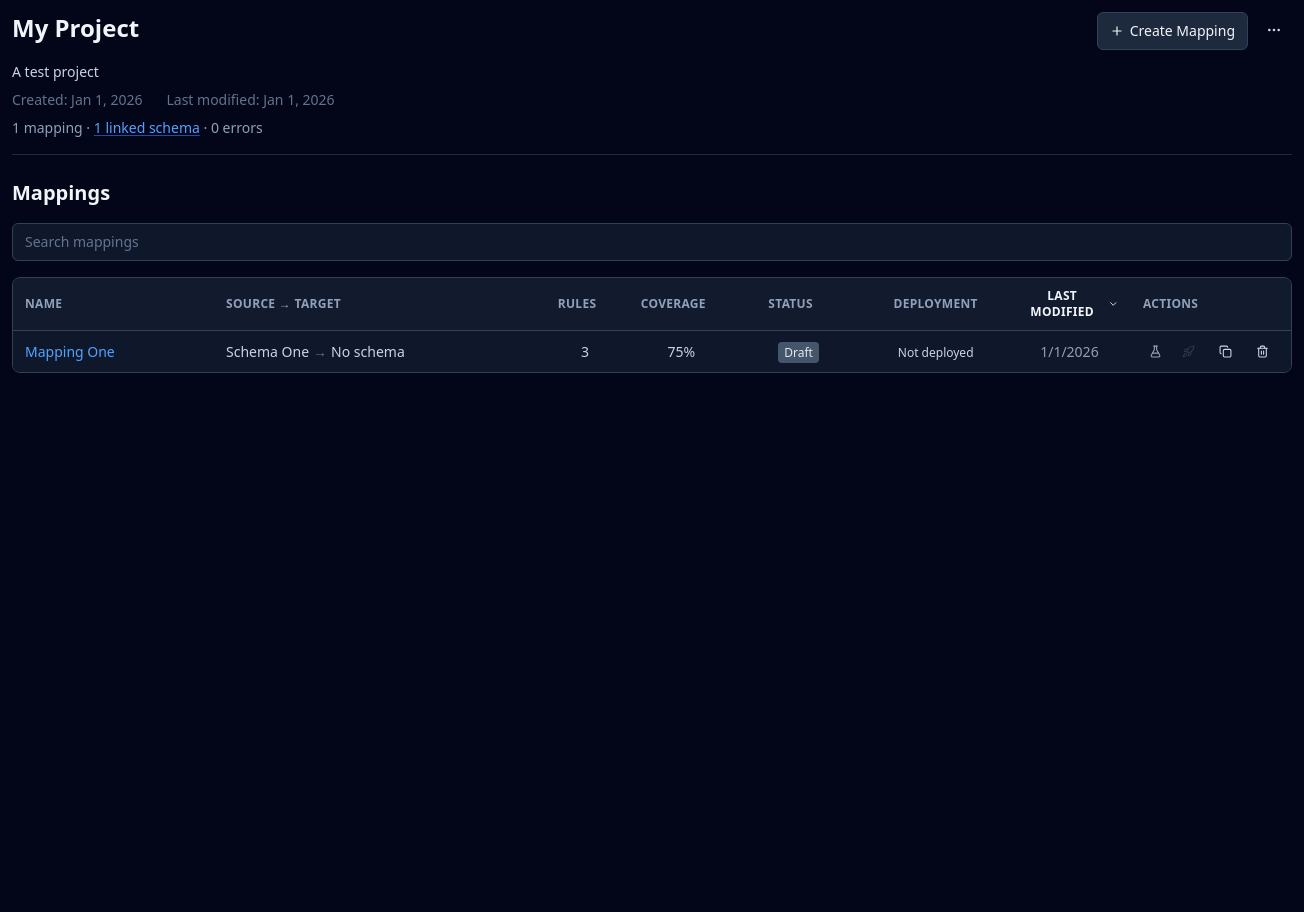
Test: ProjectOverviewPage — layout checks › AE-16: overflow menu closes on outside click
The width and height of the screenshot is (1304, 912).
Click the button with test id "project-overflow-menu-trigger": x=1274, y=30 [1256,18,1292,42]
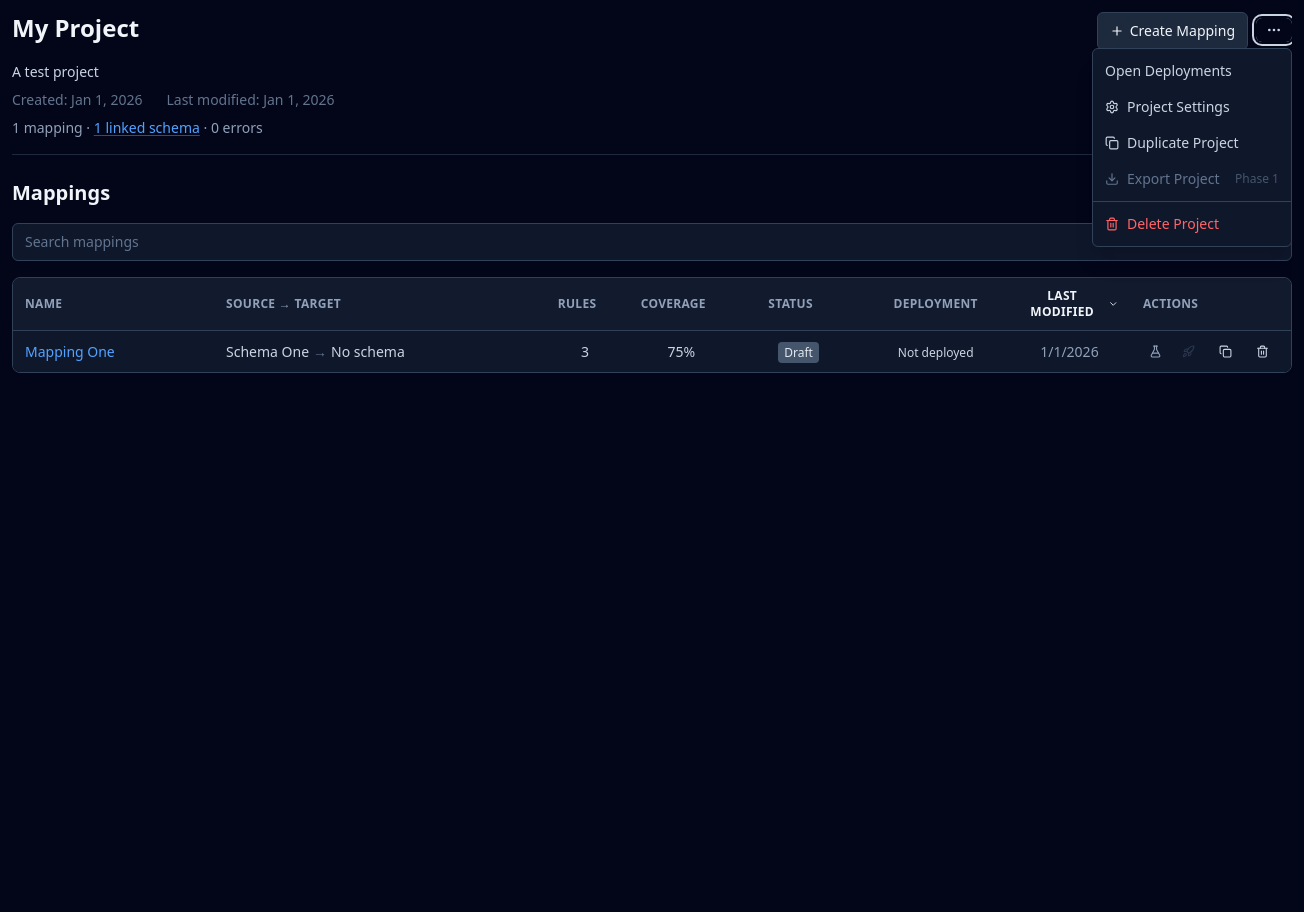
Result: the menu with test id "project-overflow-menu" is shown at [1092,48,1292,247]
// Click outside
Click the element that starts with "My Project": x=652, y=462 [12,12,1292,911]
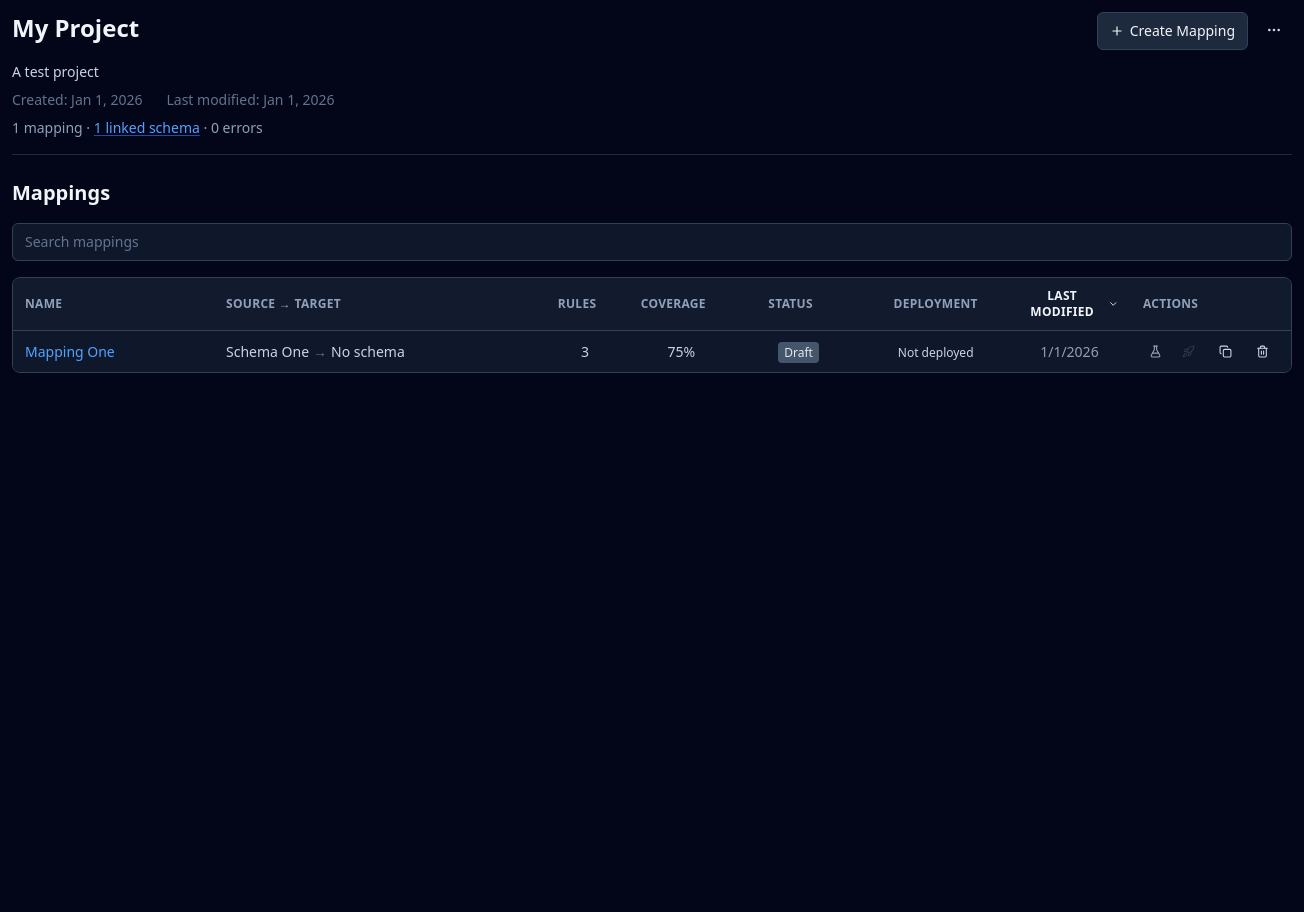
Result: the menu with test id "project-overflow-menu" is gone
